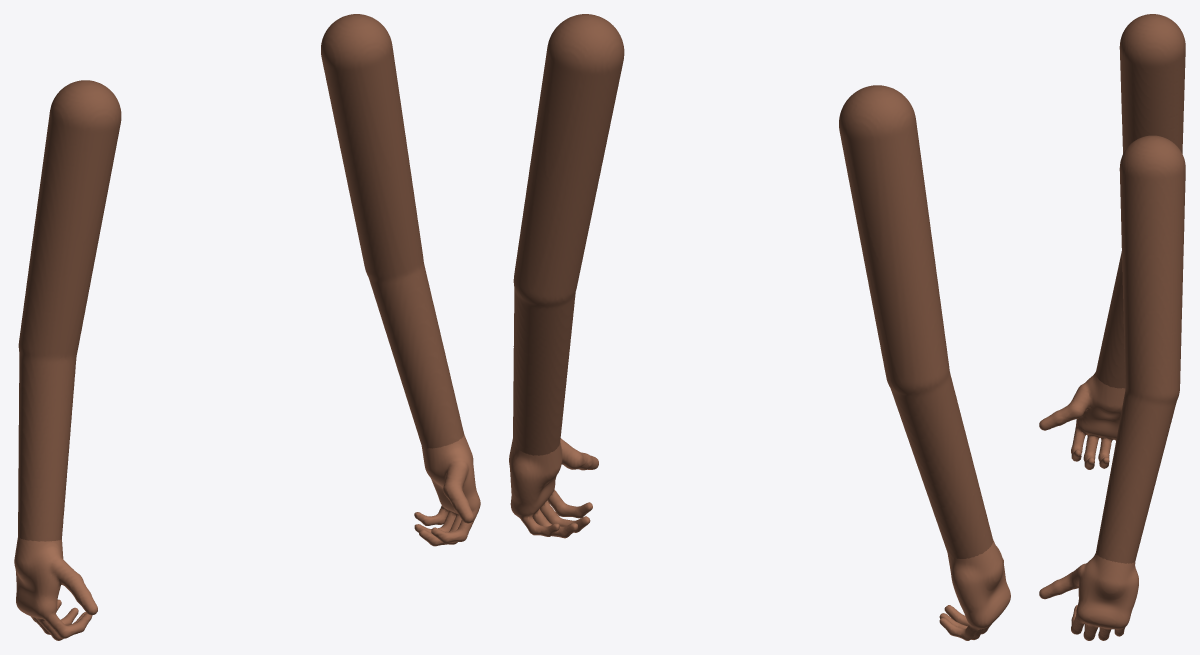
File: hands-fist.glb
The picture shows the model from 3 angles, left to right: view 1: azimuth 30°, elevation 25°; view 2: azimuth 150°, elevation 25°; view 3: azimuth 270°, elevation 25°; orthographic projection. The views are drawn at different scales.
Parts seen in each view (by area): view 1: arms, hands; view 2: arms, hands; view 3: arms, hands.
Boxes of the visible parts, <box> form: arms: <box>18,14,463,541</box>; hands: <box>14,434,480,640</box>; arms: <box>513,14,993,558</box>; hands: <box>509,438,1010,640</box>; arms: <box>1096,14,1185,563</box>; hands: <box>1039,372,1138,640</box>.
Bounding box in the file's own units: 0.6674 × 0.7277 × 0.2039.
